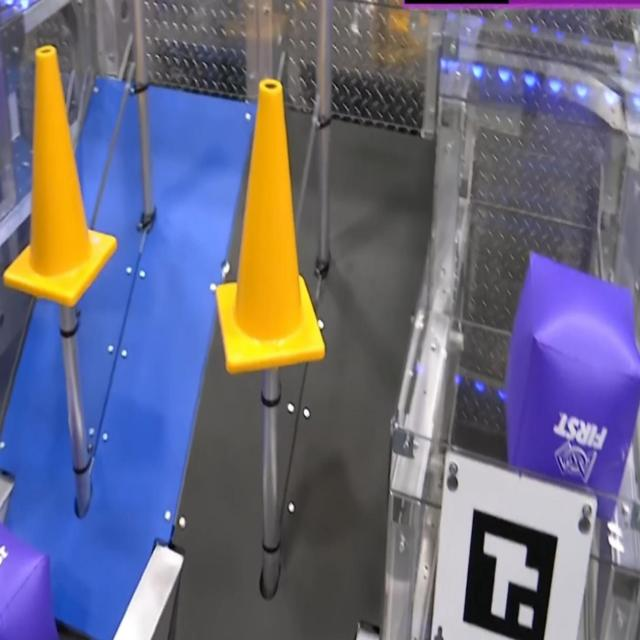frc_cone: (216, 78, 328, 369), (2, 43, 118, 308)
frc_cube: (502, 252, 640, 516), (0, 520, 58, 639)
